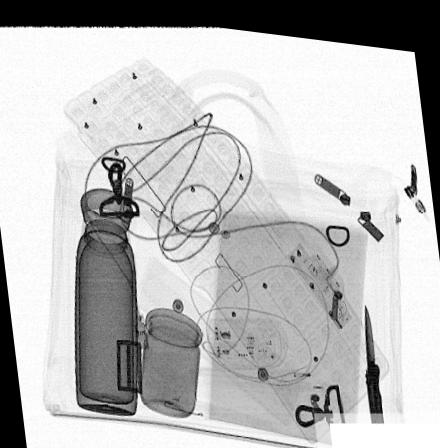Knife: (362, 292, 389, 446)
